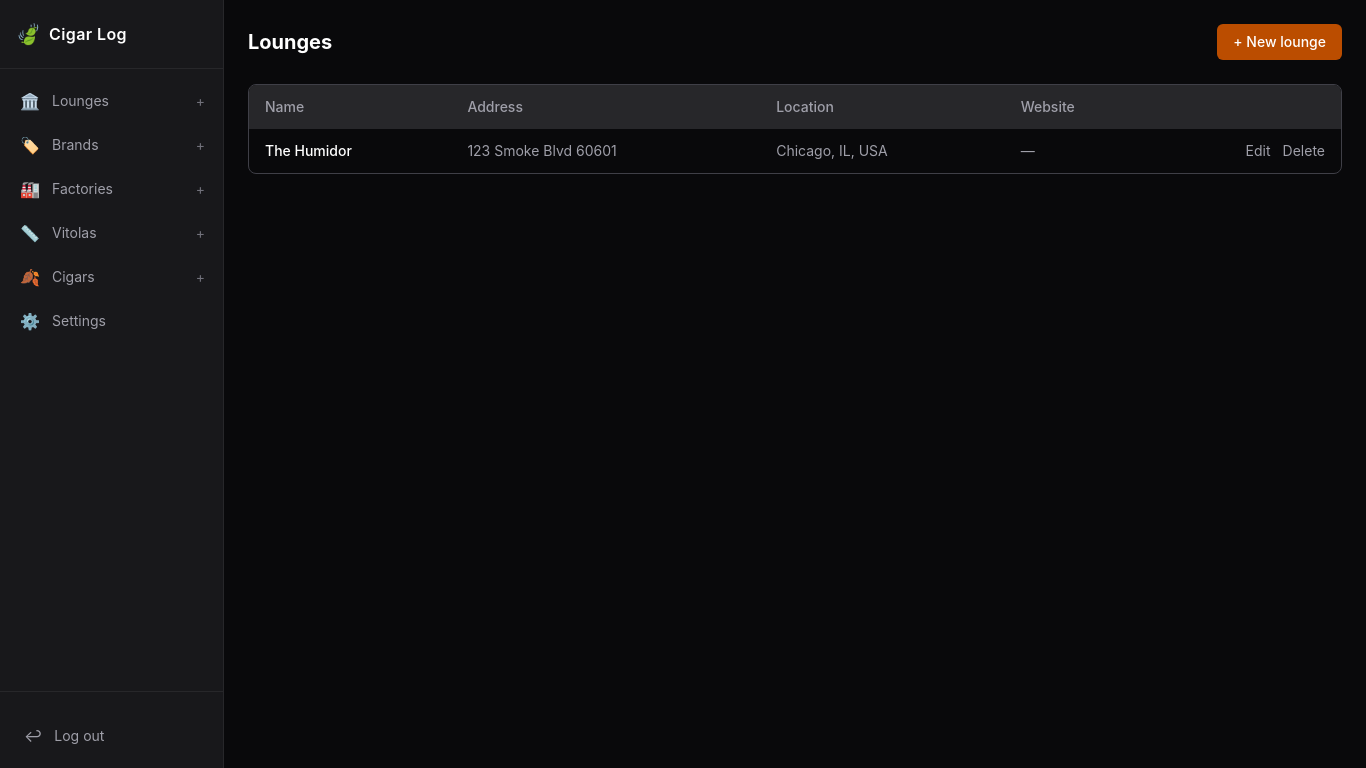
Scenario: LoungesPage › opens create modal when New lounge is clicked
Click the button "+ New lounge" at (1280, 42), box [1217,24,1342,60]
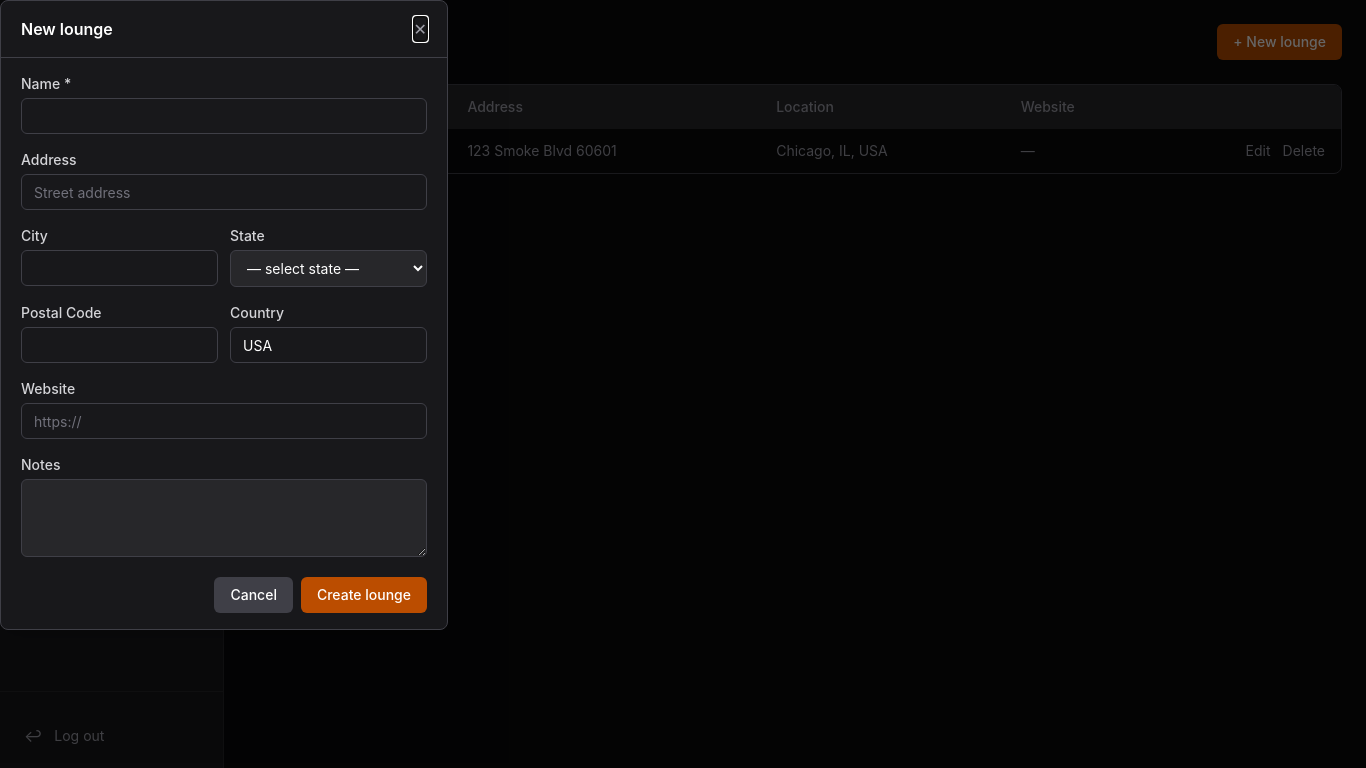
Check: the heading "New lounge" is shown, box [21,17,113,41]
Check: the field below "Name *" is shown, box [21,98,427,134]
